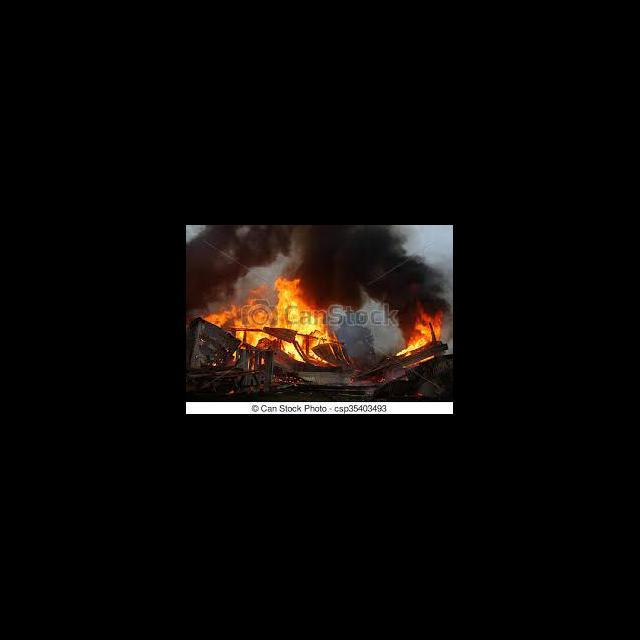Fire: (204, 278, 347, 368), (398, 308, 446, 357)
